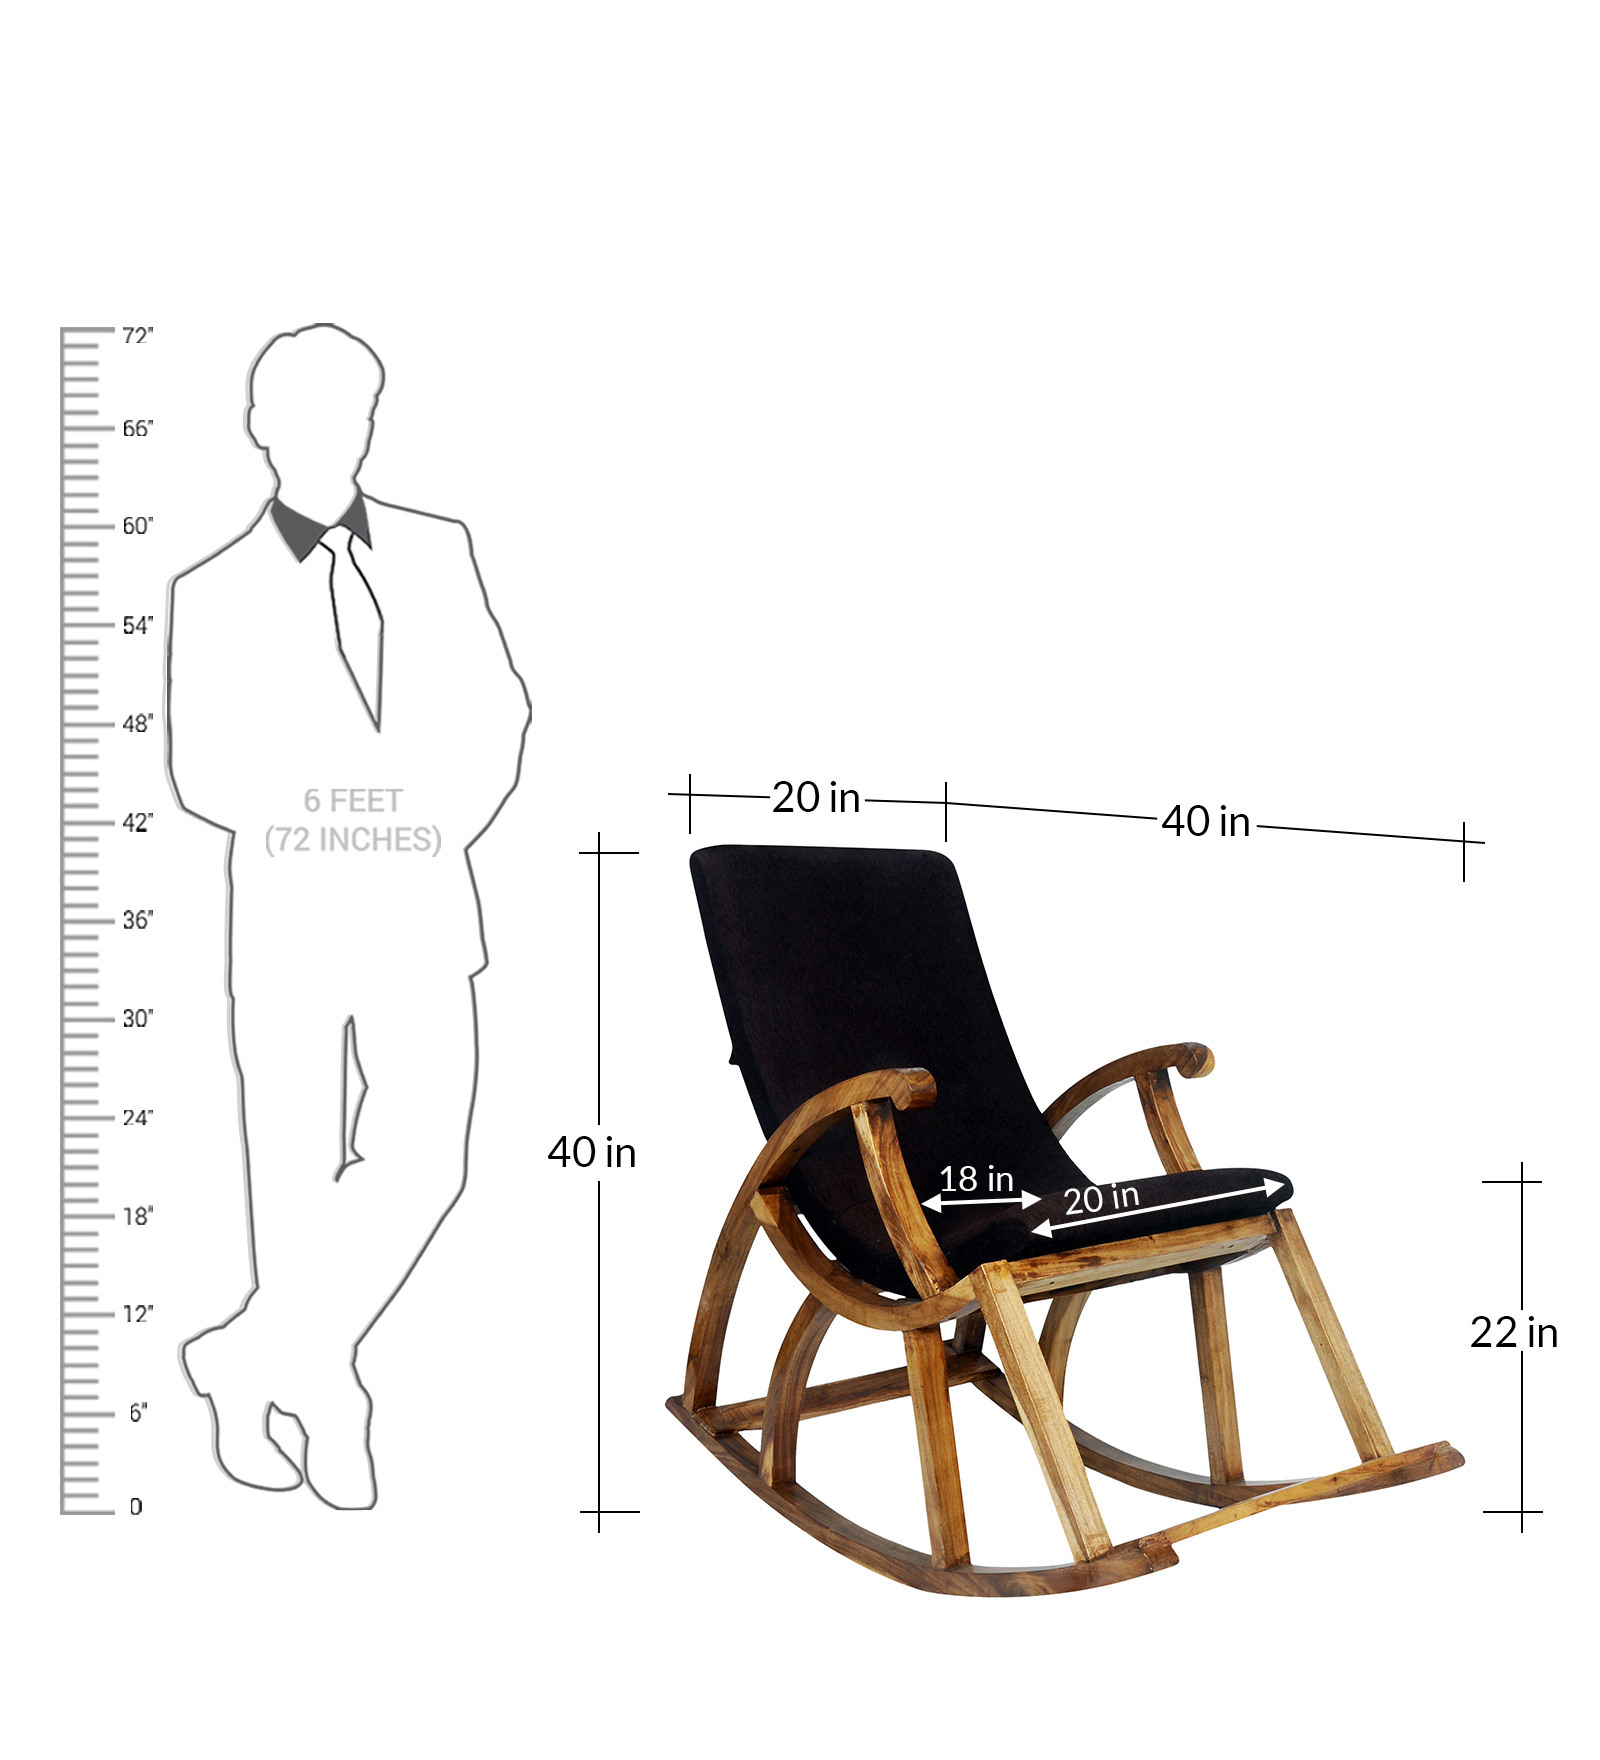Upholstered Teak Wood Rocking Chair in Natural Finish by Furniease: (657, 822, 1471, 1639)
